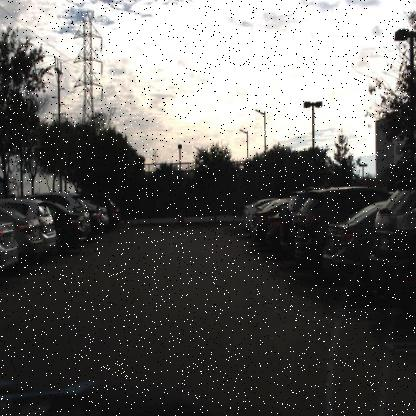car: (368, 174, 416, 316), (291, 186, 366, 272), (321, 194, 388, 286), (40, 198, 89, 249), (277, 184, 306, 268), (14, 194, 57, 248), (251, 200, 289, 244), (0, 208, 20, 280), (48, 190, 88, 224), (266, 208, 286, 251), (89, 204, 103, 238)
